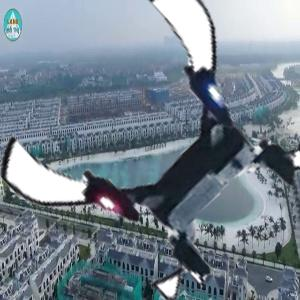drone: (23, 13, 300, 290)
